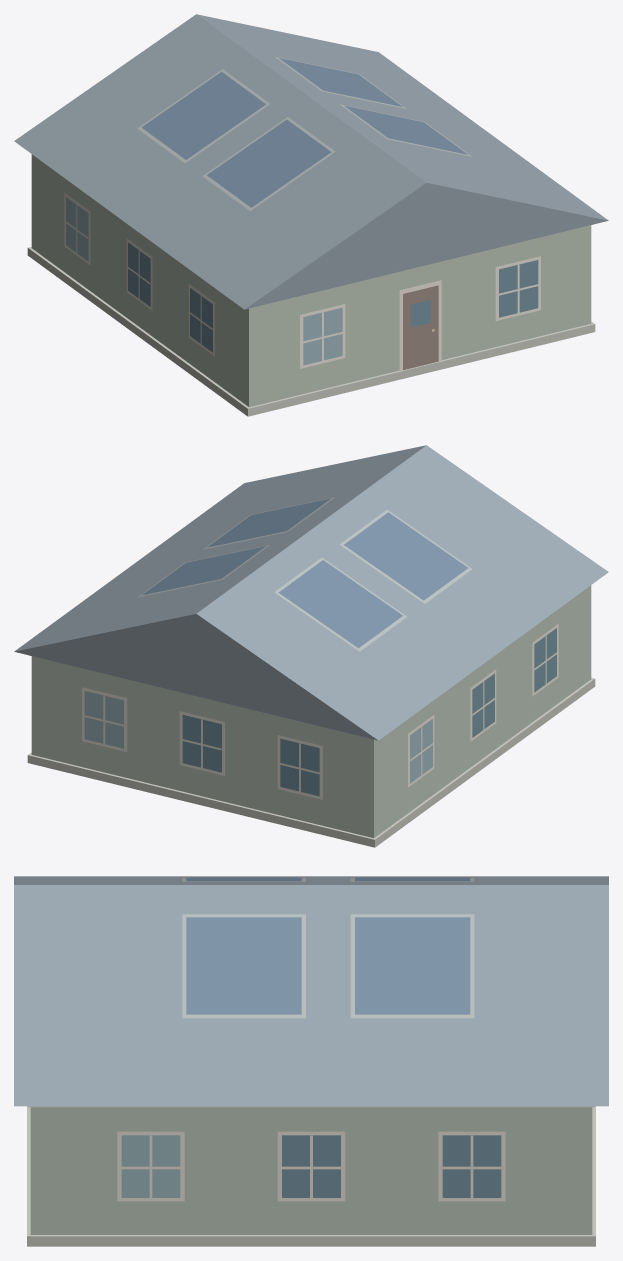
The model's file is house-solar-sage.glb.
3 views of the same model, one above another, from view 1: azimuth 30°, elevation 25°; view 2: azimuth 150°, elevation 25°; view 3: azimuth 270°, elevation 25° (orthographic). The views are drawn at different scales.
Visible parts, largest first — view 1: house-solar-sage; view 2: house-solar-sage; view 3: house-solar-sage.
Boxes of the visible parts, <box> form: house-solar-sage: <box>14,14,608,416</box>; house-solar-sage: <box>14,445,608,847</box>; house-solar-sage: <box>14,876,608,1246</box>.
Bounding box in the file's own units: 10.65 × 5.45 × 11.65.
